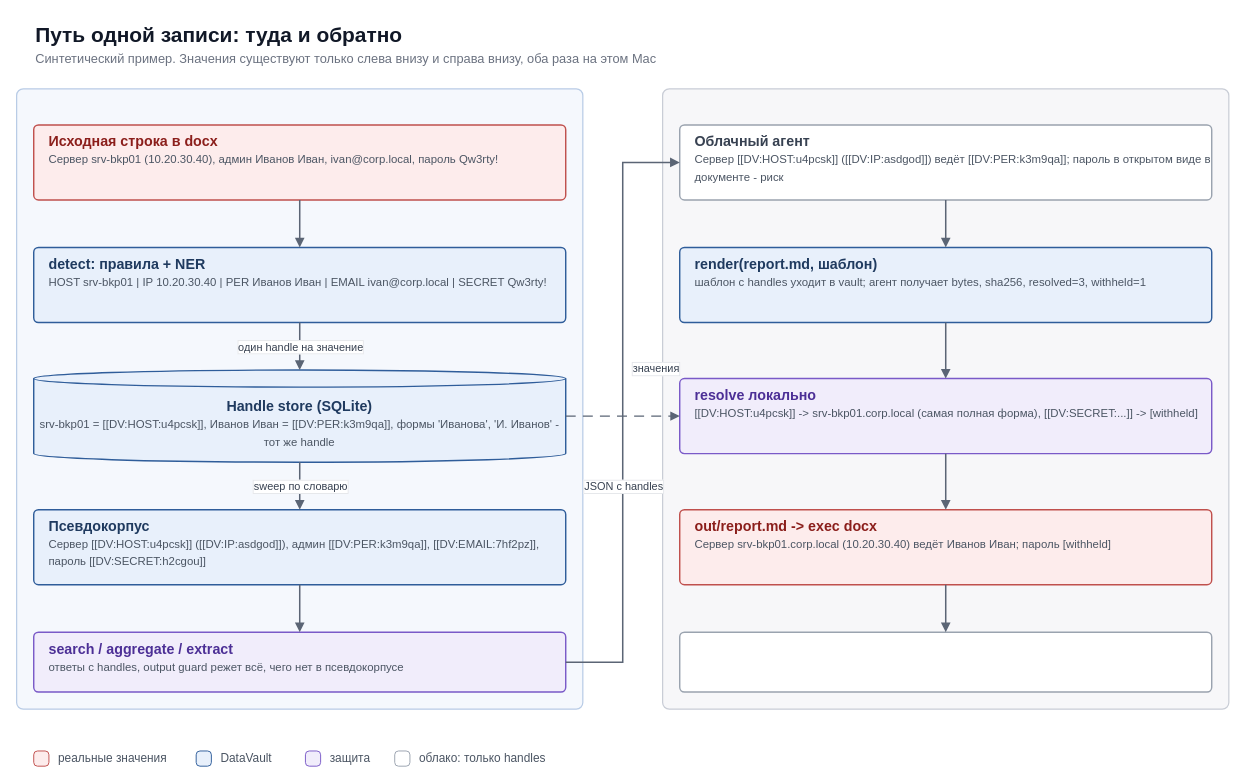
Image size: 1246x784. Some labels were removed from this diagram. Each missing label, with the box of its shape:
ОБРАТНО: ОТЧЁТ И RENDER: (662, 88, 1229, 709)
ТУДА: INGEST И ЗАПРОСЫ: (16, 88, 583, 709)
Человек открывает out/ chmod 600, в облако не уходило ни одно значение: (679, 631, 1212, 692)
